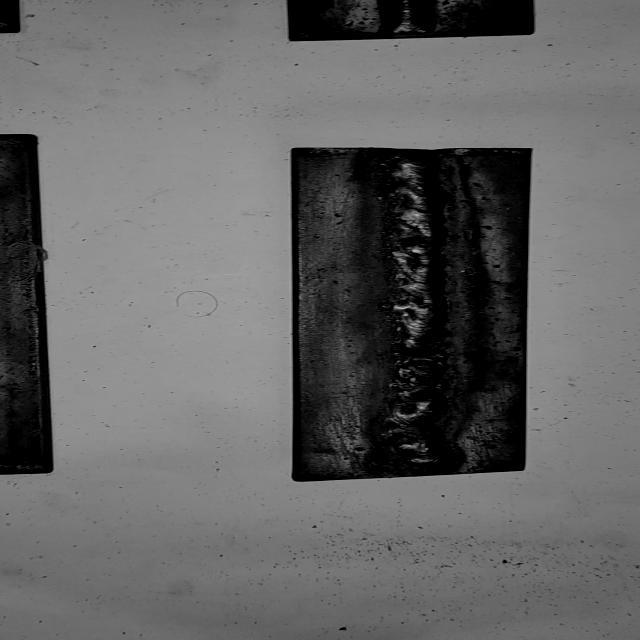Defect: (380, 338, 456, 402), (371, 245, 418, 334)
Welding Line: (392, 156, 449, 471)
Workpiece: (284, 143, 542, 484), (0, 130, 63, 478), (280, 0, 540, 45)
